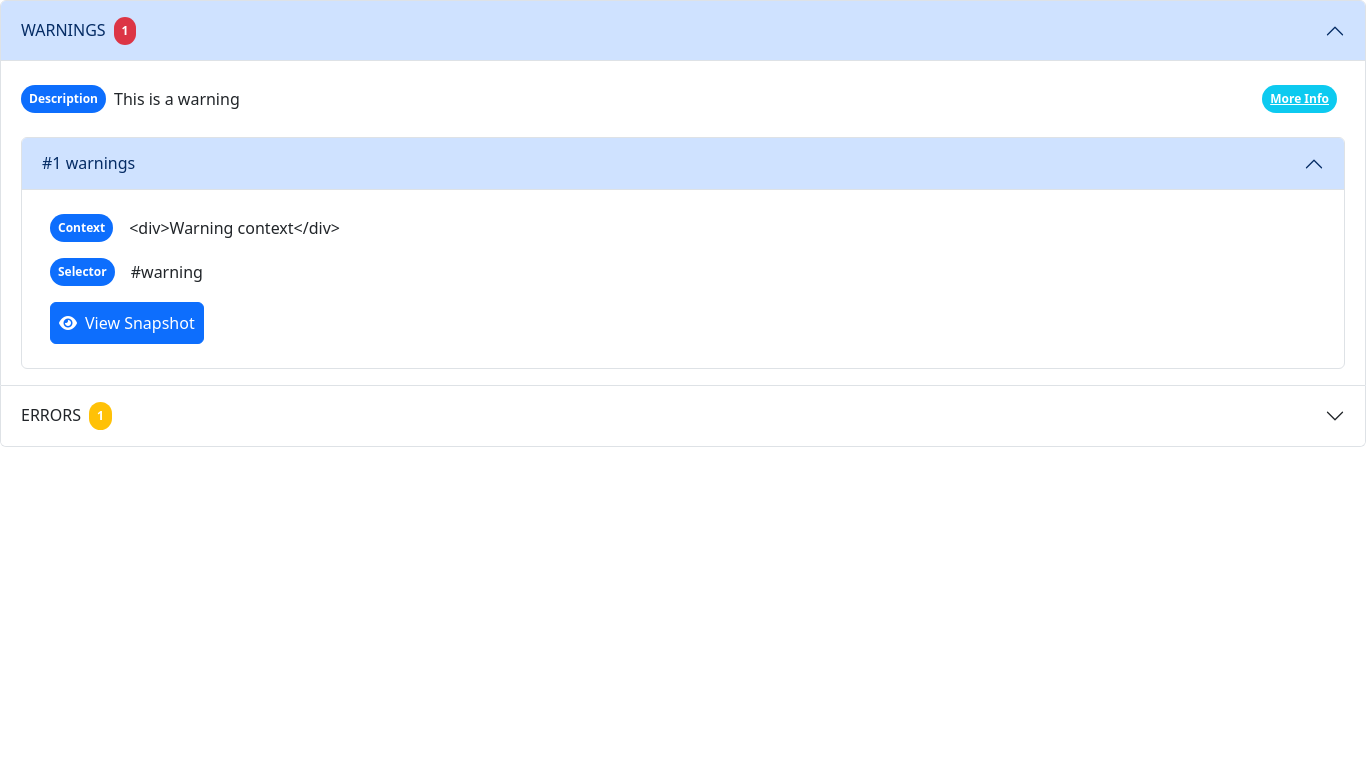
ResultAccordion Component › opens the modal and fetches image when "View Snapshot" is clicked
Click the button "View Snapshot" at (127, 323), box x1=50 y1=302 x2=204 y2=344
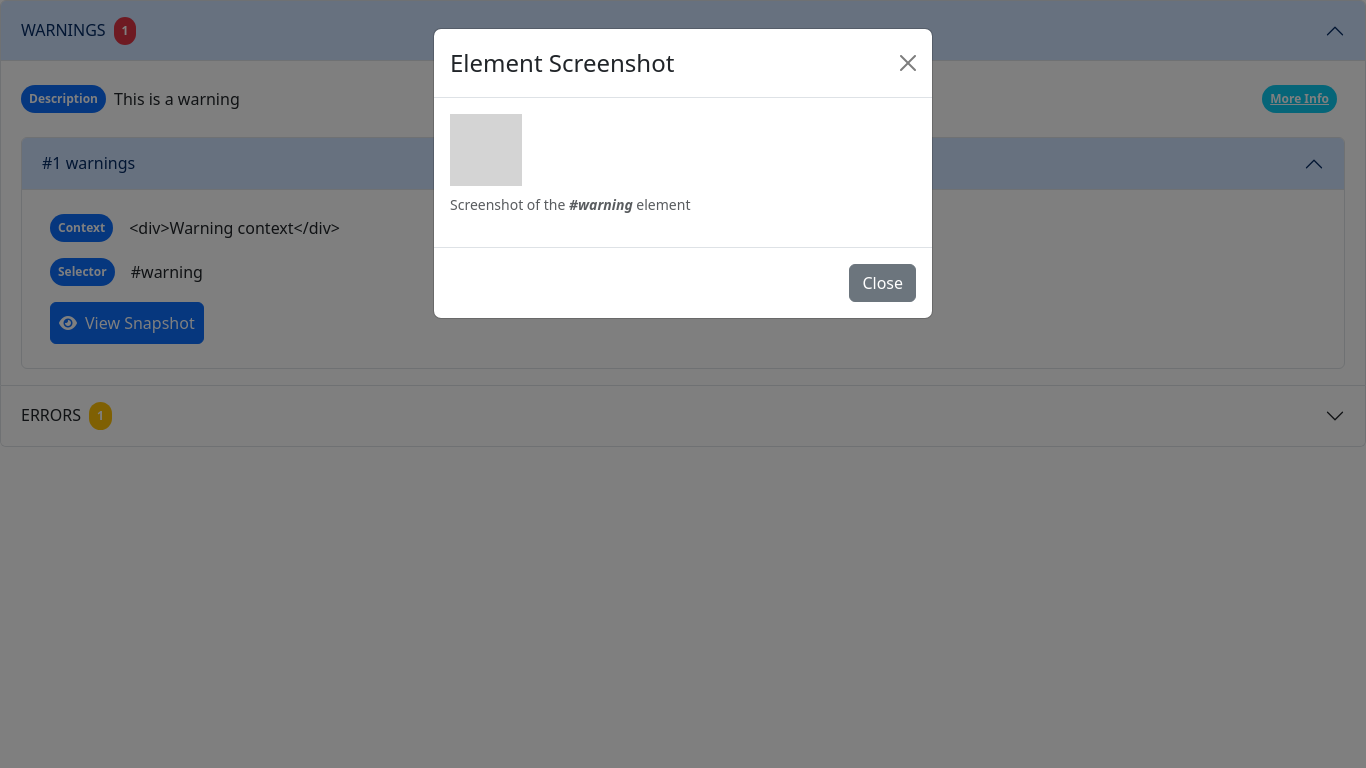
Result: the text "Element Screenshot" is shown at x1=450 y1=45 x2=674 y2=81
